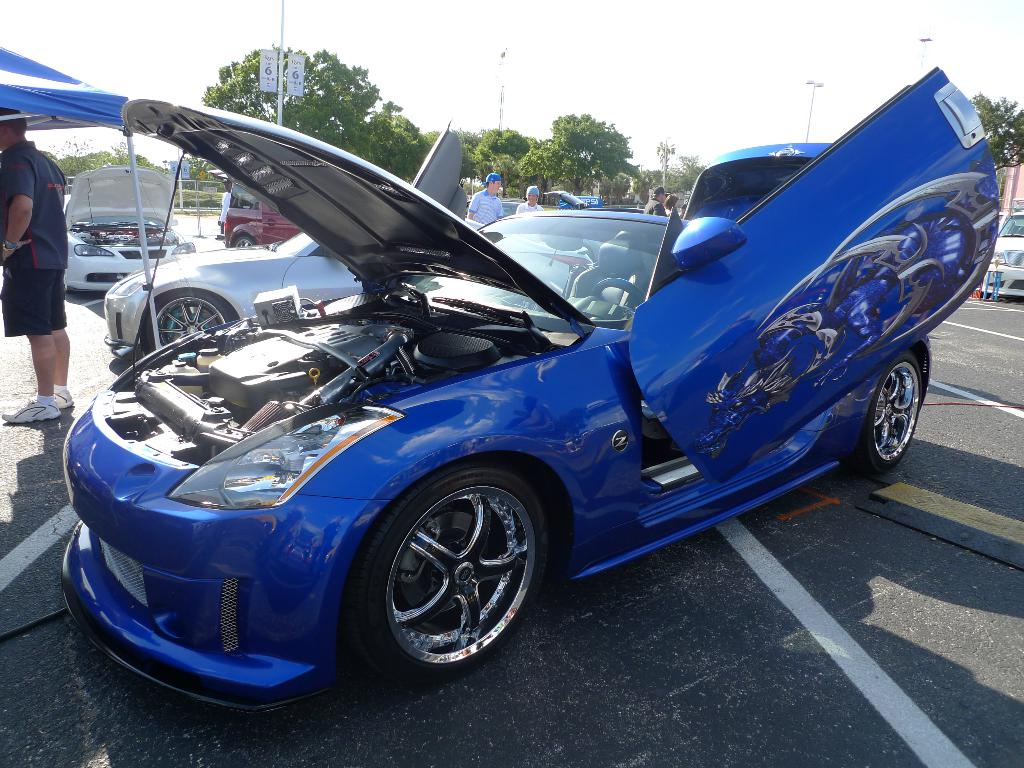Car: (59, 68, 997, 710), (105, 121, 593, 359)
